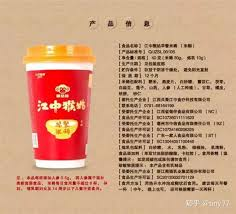cup: (24, 45, 96, 169)
